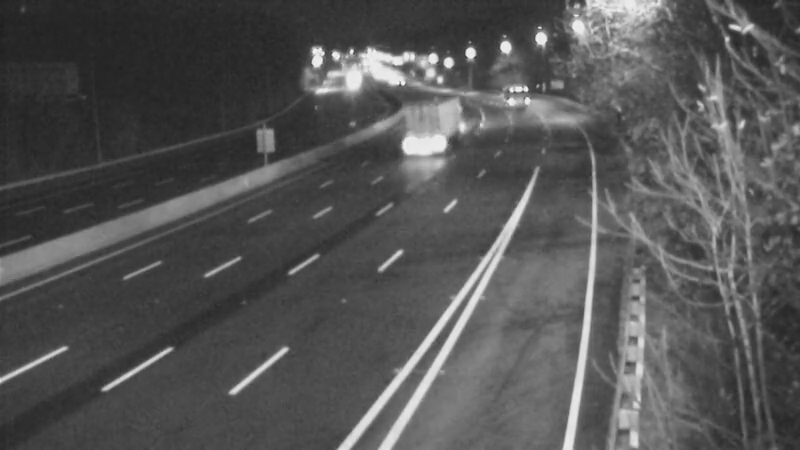vehicle: (479, 65, 529, 115), (403, 93, 453, 143), (327, 53, 377, 103)
